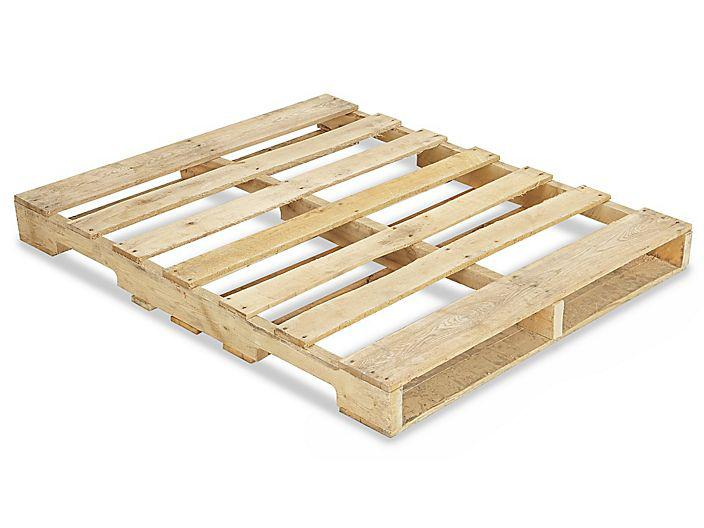wood: (13, 91, 693, 447)
